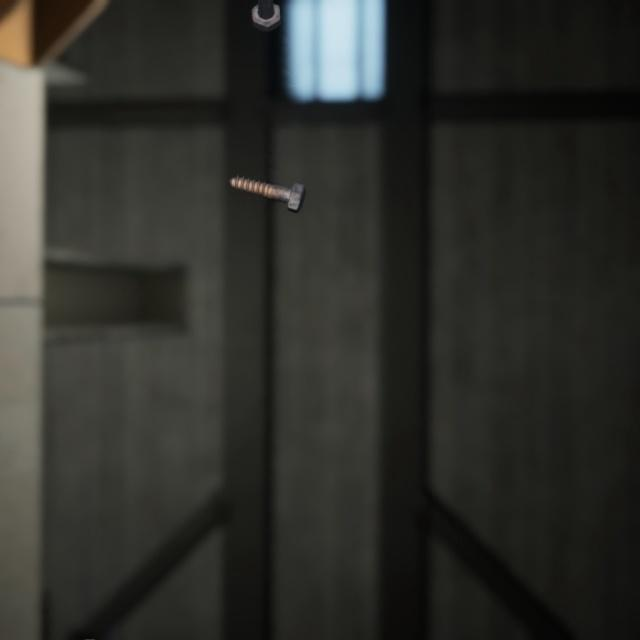bolt: (224, 155, 310, 202), (247, 0, 285, 30)
nut: (77, 610, 123, 640)
